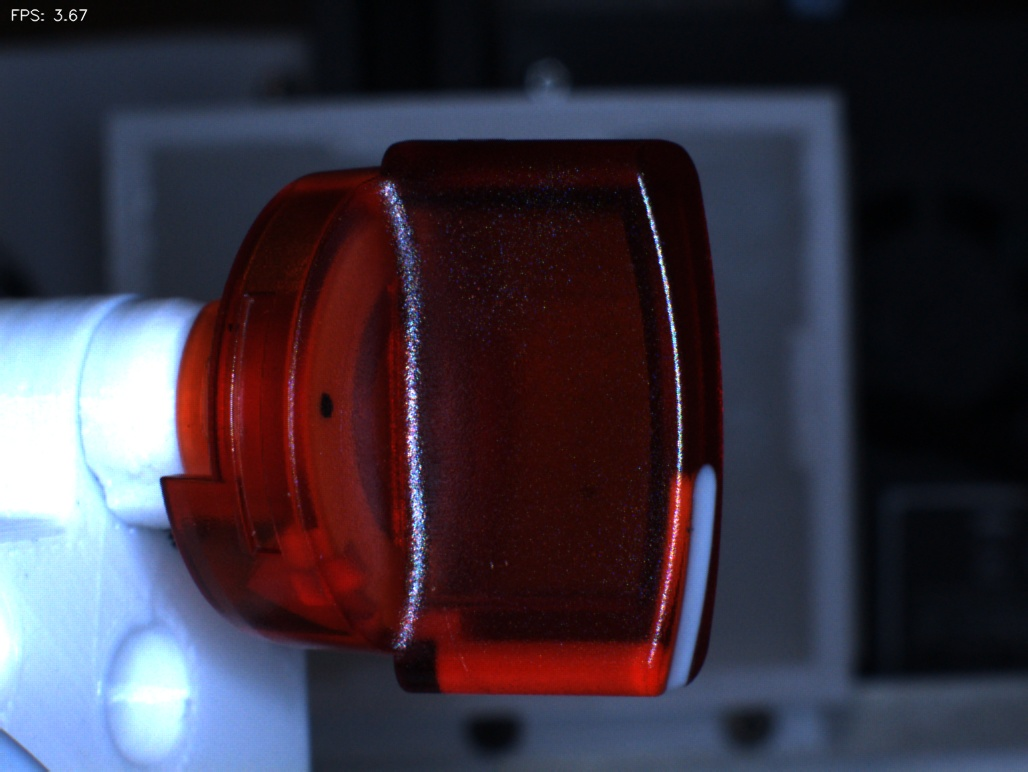PointNoir: (283, 354, 365, 449)
